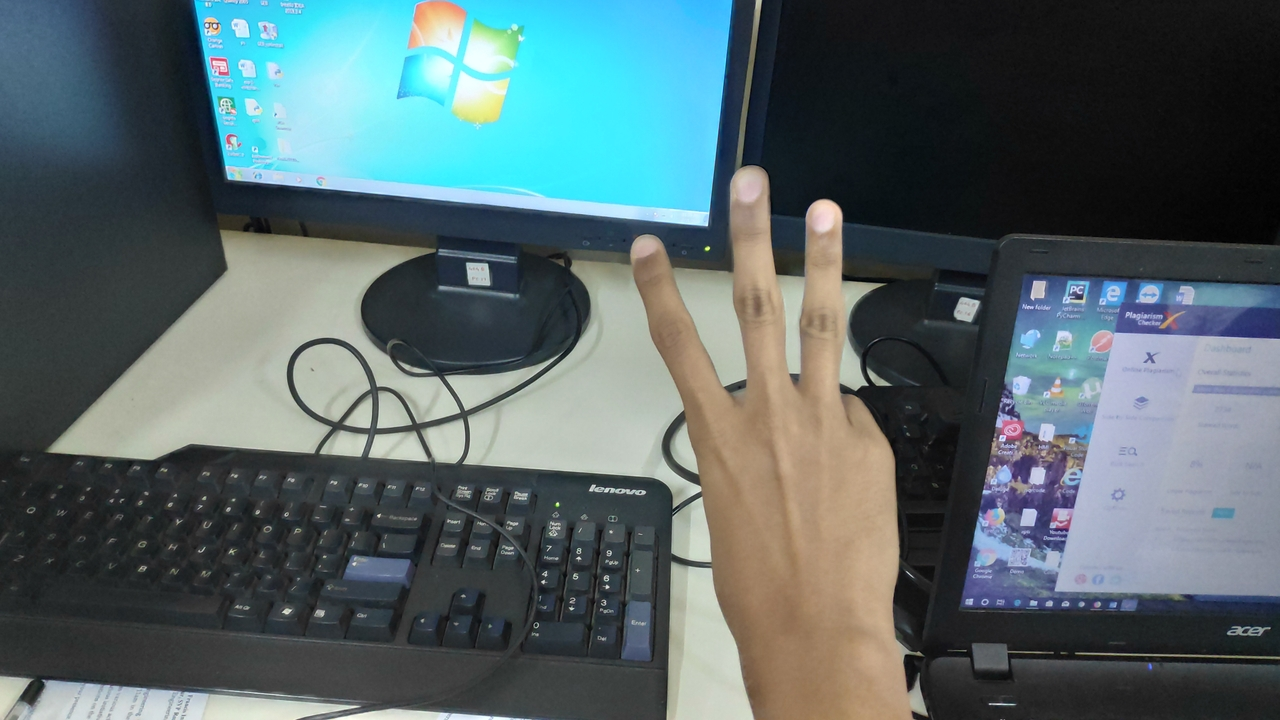fingertip: (618, 226, 680, 284), (722, 156, 782, 214), (800, 192, 850, 240)
